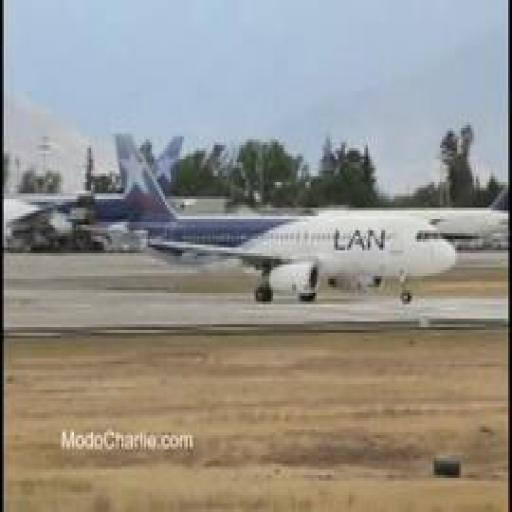aircraft: (80, 134, 457, 307)
